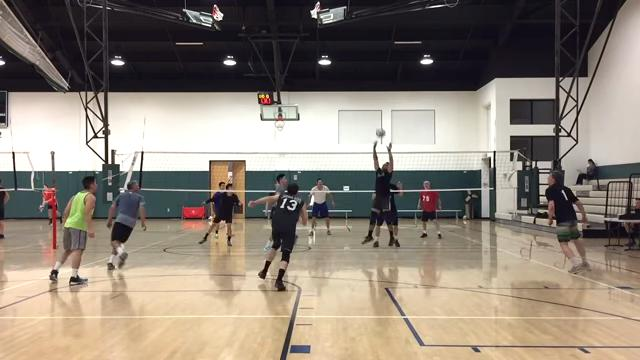alzata: (359, 135, 393, 246)
